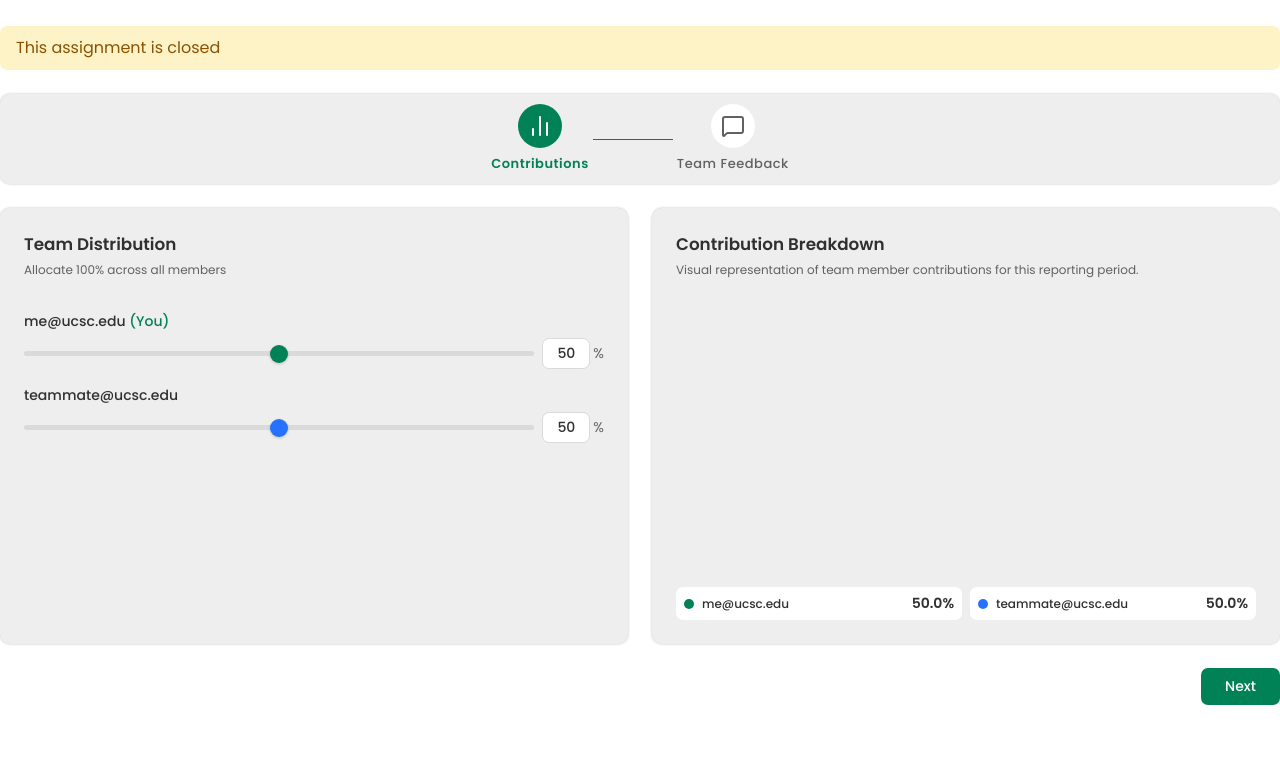
TSRS submission window › says the assignment is closed and disables Submit
Expected: the text "This assignment is closed" is shown, top-left (0, 26), bottom-right (1279, 70)
Click the button "Next" at (1241,687), box top-left (1201, 668), bottom-right (1279, 705)
(page scrolled)
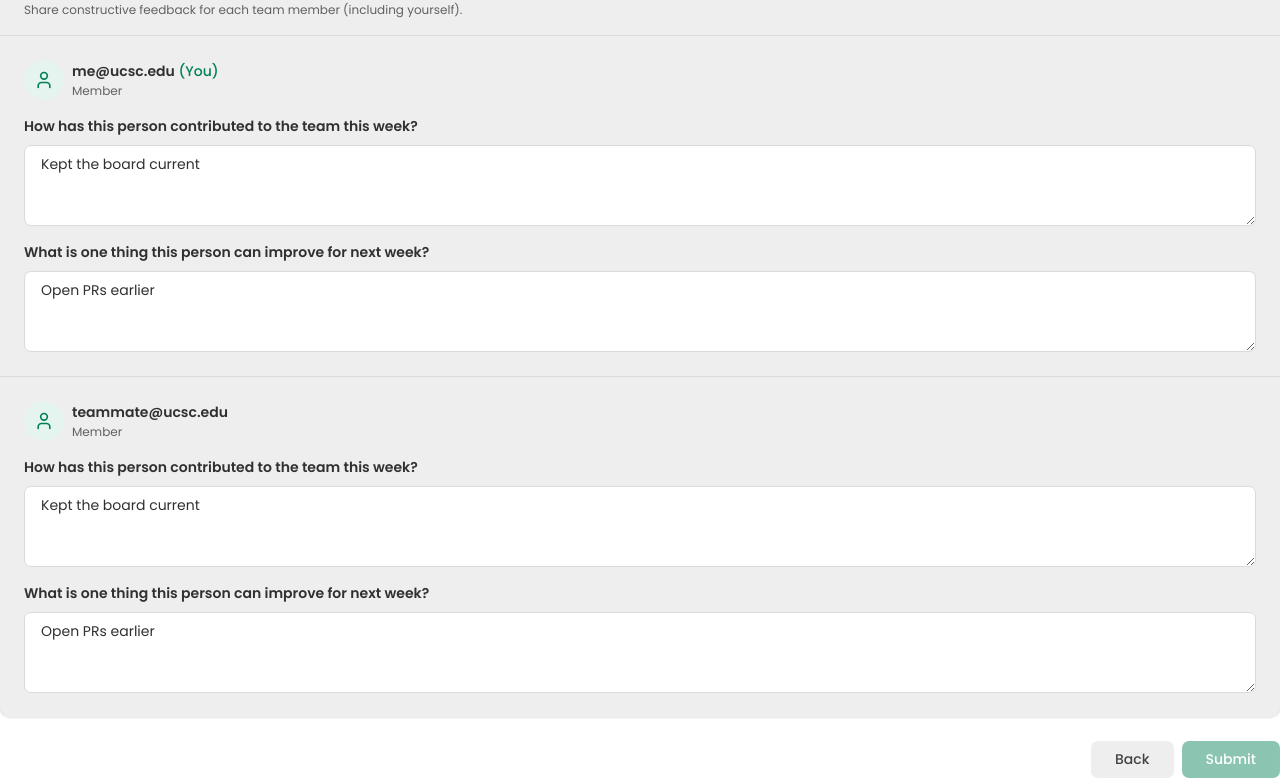
Result: the button "Submit" is disabled at top-left (1182, 741), bottom-right (1279, 777)
